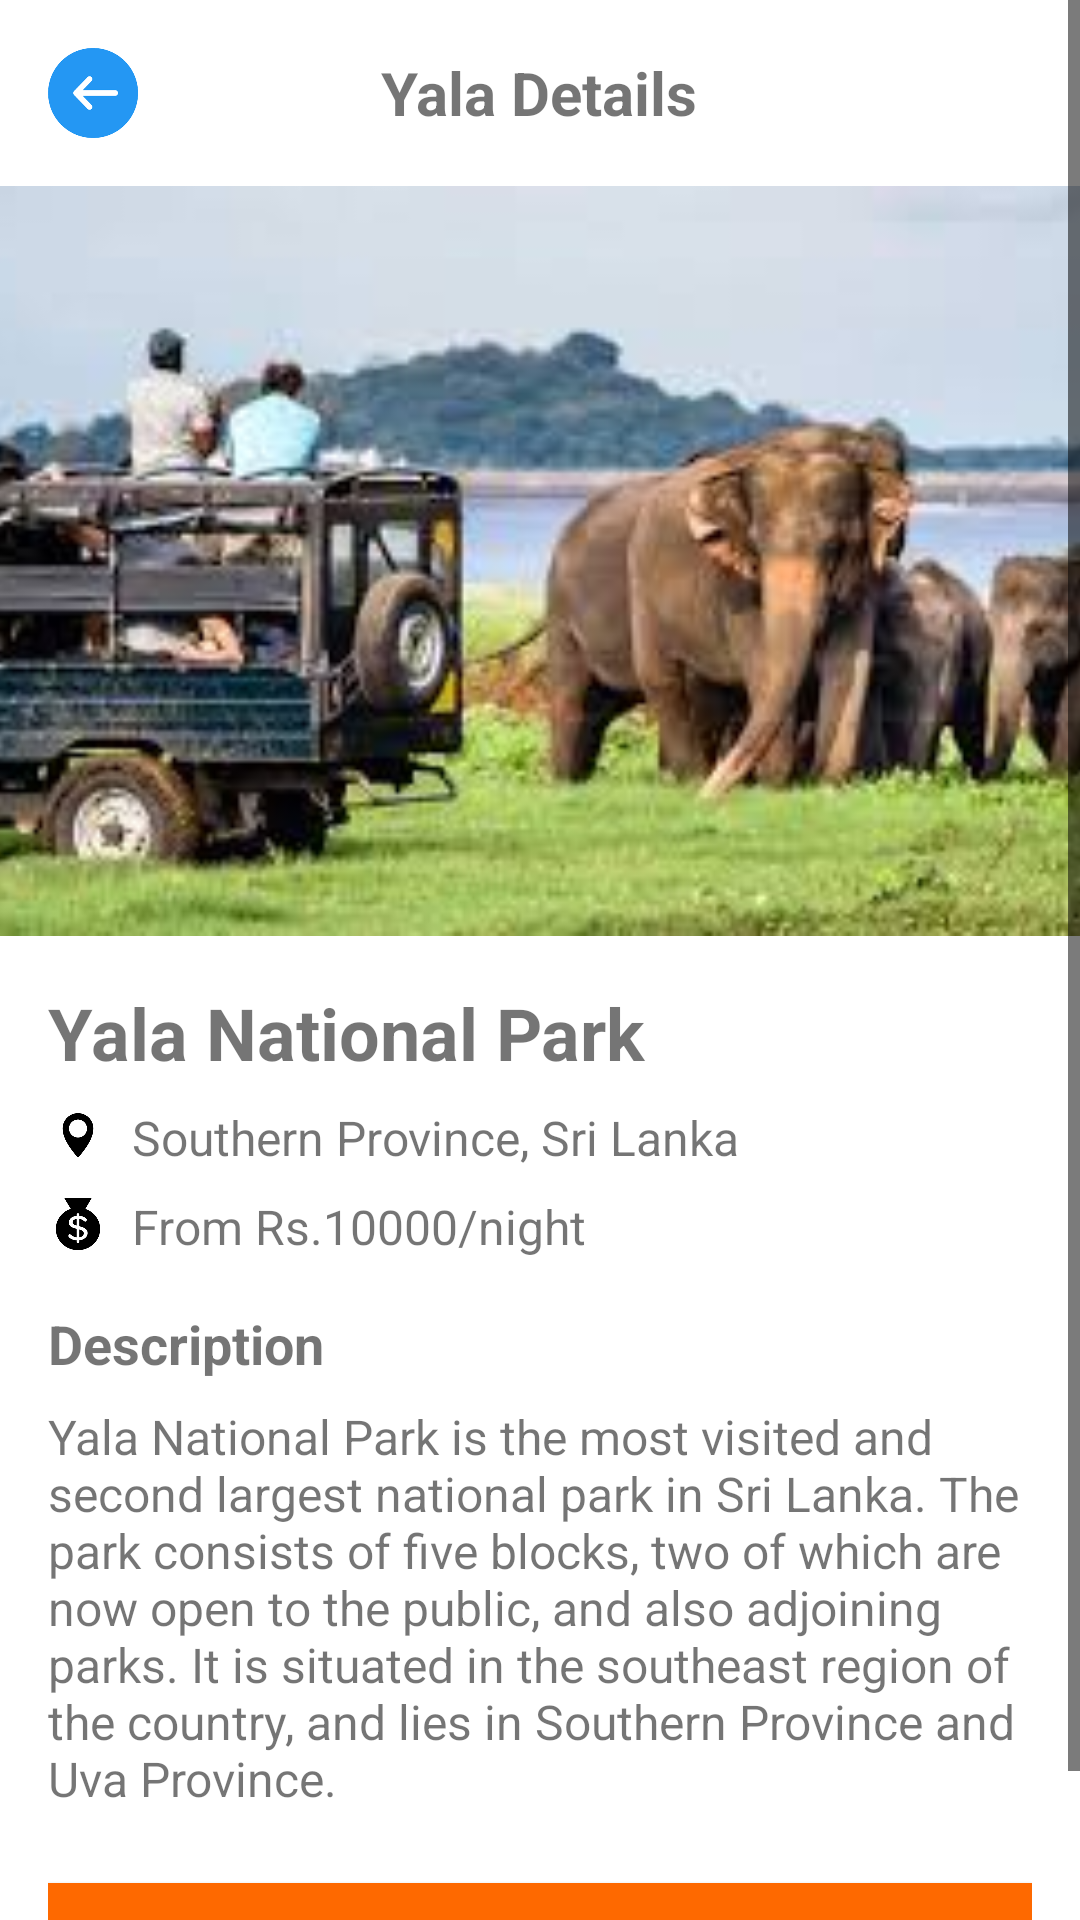

Screen size 1080px×1920px. Icon name, then its box in pixels as (x1, y1, x2, y2):
back: (48, 48, 138, 138)
cost: (56, 1198, 100, 1250)
location: (62, 1113, 94, 1157)
